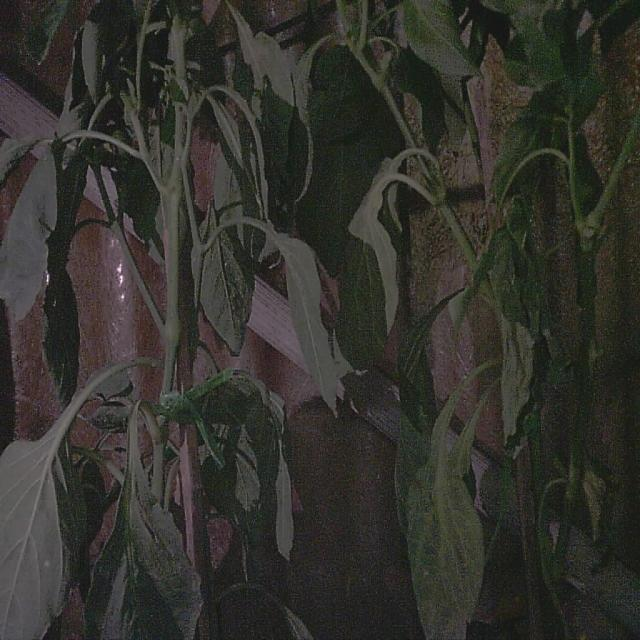Leaf: (86, 412, 201, 639), (0, 428, 69, 639), (275, 234, 337, 410), (0, 150, 57, 319), (336, 238, 388, 369), (200, 230, 254, 354), (228, 4, 293, 105), (404, 0, 477, 77), (276, 444, 293, 559), (0, 138, 39, 187)
